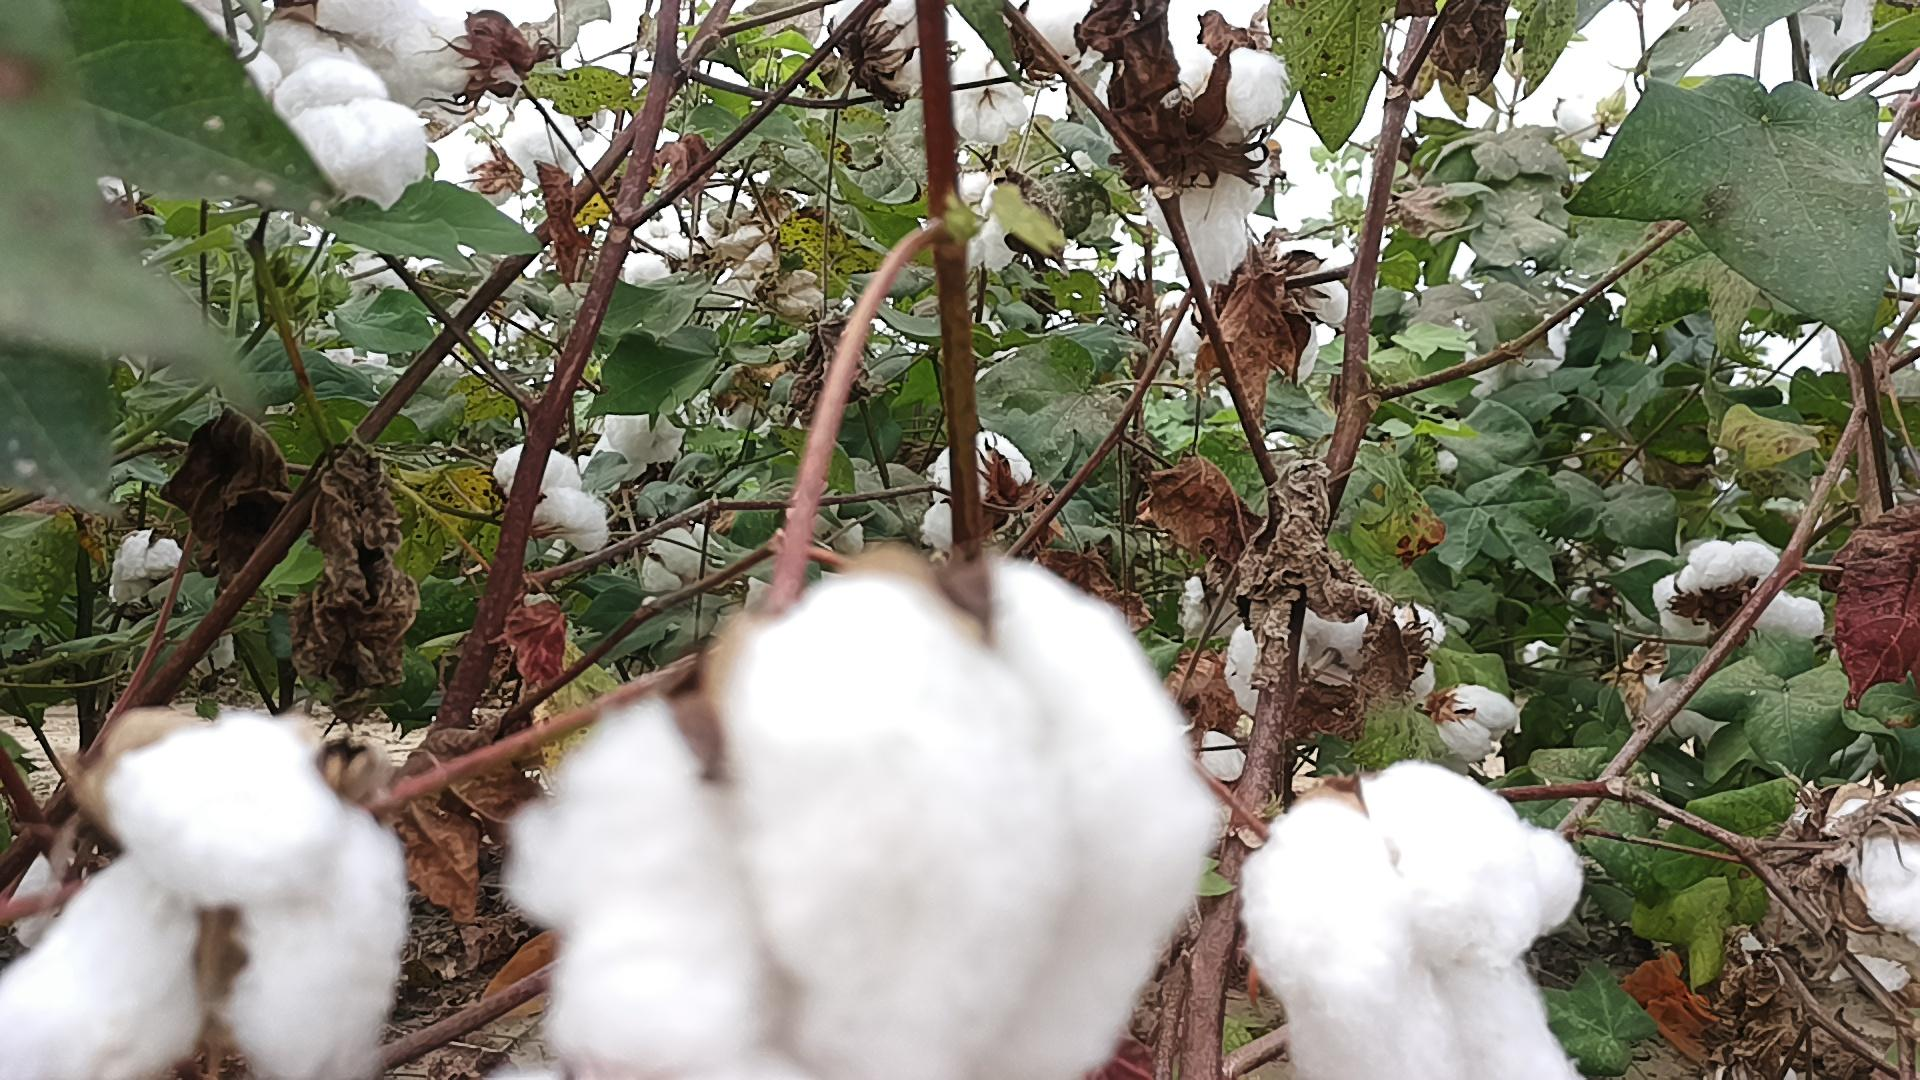cotton_ready: (508, 553, 1228, 1080), (0, 711, 407, 1080), (1240, 761, 1573, 1080), (1158, 38, 1288, 284), (262, 0, 468, 113), (187, 20, 396, 116), (1655, 541, 1828, 640), (291, 95, 429, 207), (1308, 605, 1448, 703), (919, 433, 1030, 551), (1242, 258, 1348, 381), (1178, 725, 1253, 897), (496, 443, 609, 553), (1841, 790, 1920, 943), (496, 0, 613, 95), (1626, 646, 1727, 745), (832, 0, 928, 91), (1225, 617, 1305, 716), (951, 57, 1030, 142), (1803, 0, 1871, 95), (952, 175, 1021, 268), (502, 111, 580, 189), (1440, 686, 1518, 761), (112, 526, 181, 611), (604, 407, 688, 463), (622, 236, 708, 285)
